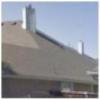chimneys: (22, 5, 37, 36), (77, 39, 86, 58)
